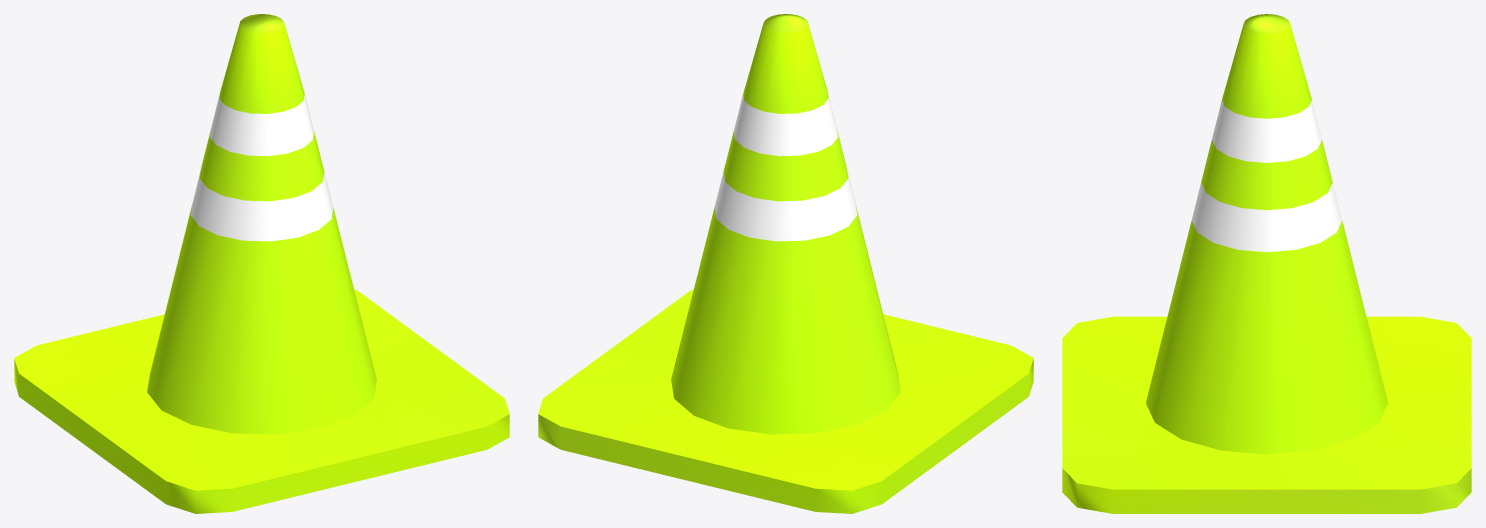
File: ConstructionConeNeon.glb
The picture shows the model from 3 angles, left to right: view 1: azimuth 30°, elevation 25°; view 2: azimuth 150°, elevation 25°; view 3: azimuth 270°, elevation 25°; orthographic projection. The views are drawn at different scales.
Visible parts, largest first — view 1: ConstructionConeNeon; view 2: ConstructionConeNeon; view 3: ConstructionConeNeon.
Boxes of the visible parts, left/top/right/bottom form: ConstructionConeNeon: left=14, top=14, right=509, bottom=513; ConstructionConeNeon: left=538, top=14, right=1033, bottom=513; ConstructionConeNeon: left=1062, top=14, right=1471, bottom=513.
Bounding box in the file's own units: 0.5644 × 0.622 × 0.5644.
Materials: 1 (1 with a texture image).
